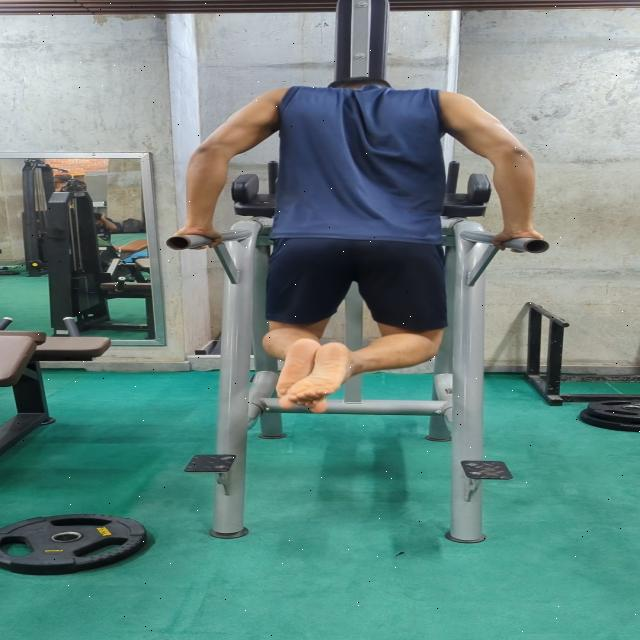Normal_Dips: (172, 70, 545, 417)
